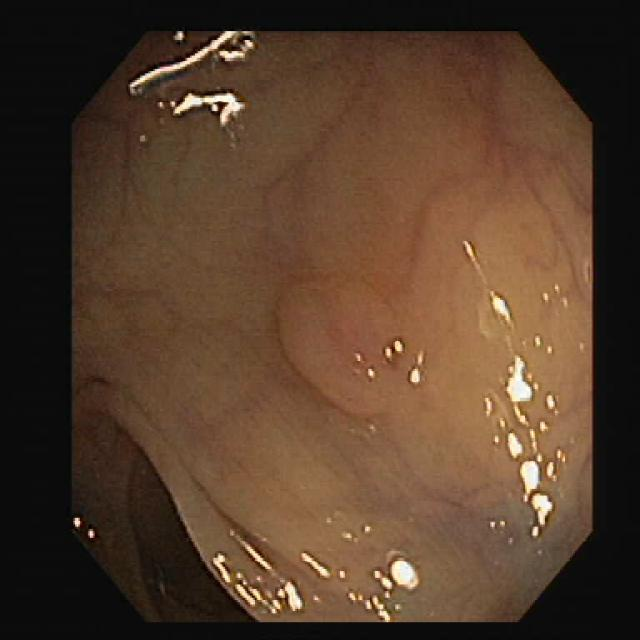tumor: (277, 271, 425, 416)
